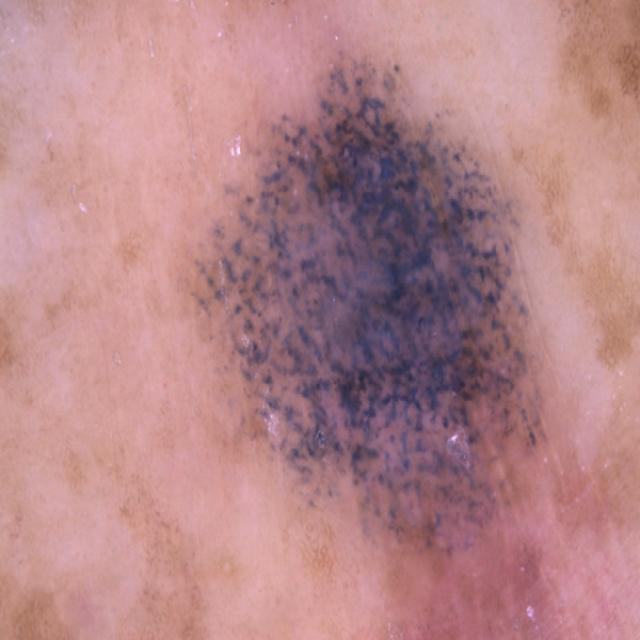Skin-Cancer Pigmented benign keratosis: (141, 0, 629, 619)
